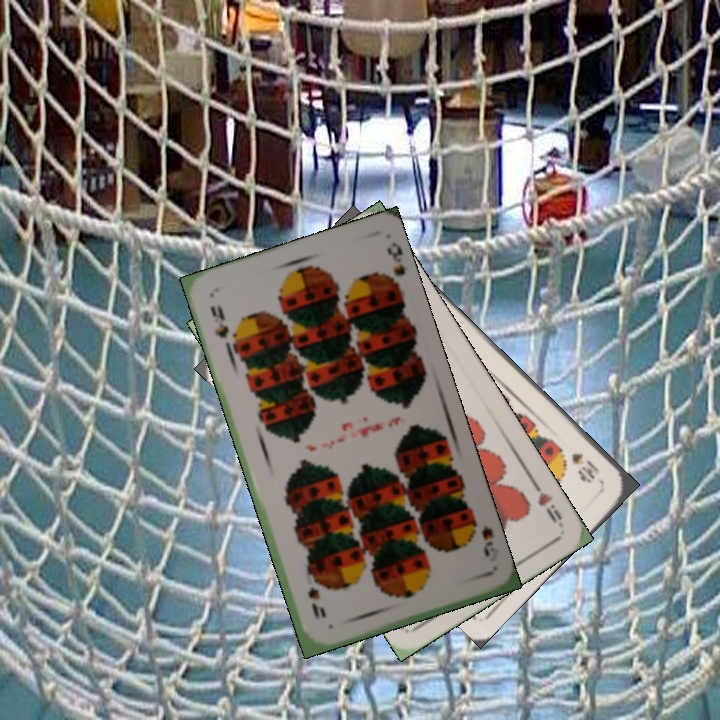H9: (527, 476, 566, 530)
S10: (568, 449, 606, 486)
S9: (206, 301, 237, 351), (464, 513, 496, 559)
